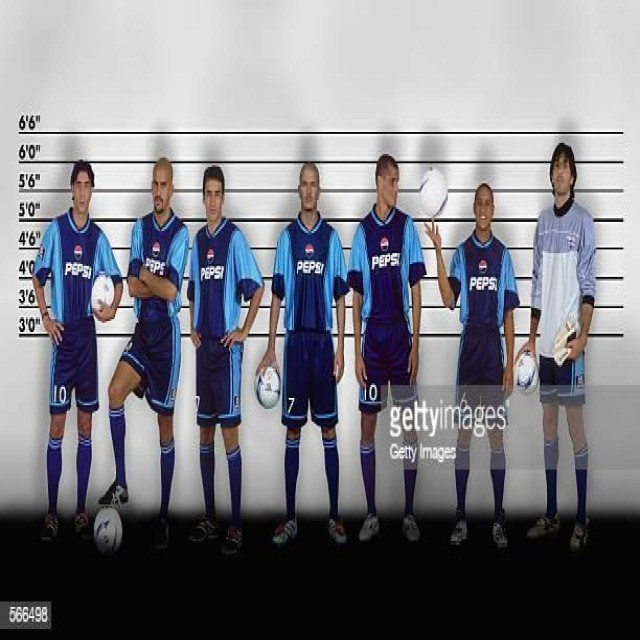pepsi: (74, 243, 86, 264), (379, 233, 391, 254), (476, 258, 490, 274), (205, 248, 217, 266), (151, 242, 160, 260), (306, 242, 315, 260)
